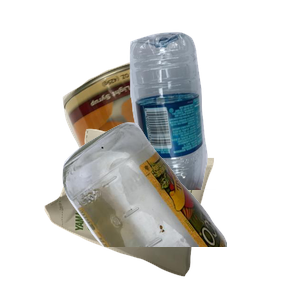glass: (60, 120, 300, 300)
metal: (60, 58, 300, 238)
plastic: (127, 29, 300, 209)
trash: (42, 126, 249, 300)
